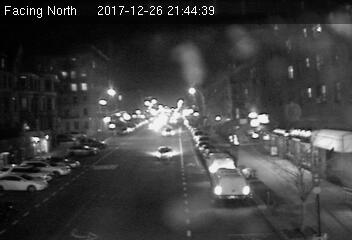car: (154, 146, 173, 162)
truck: (208, 165, 248, 200)
